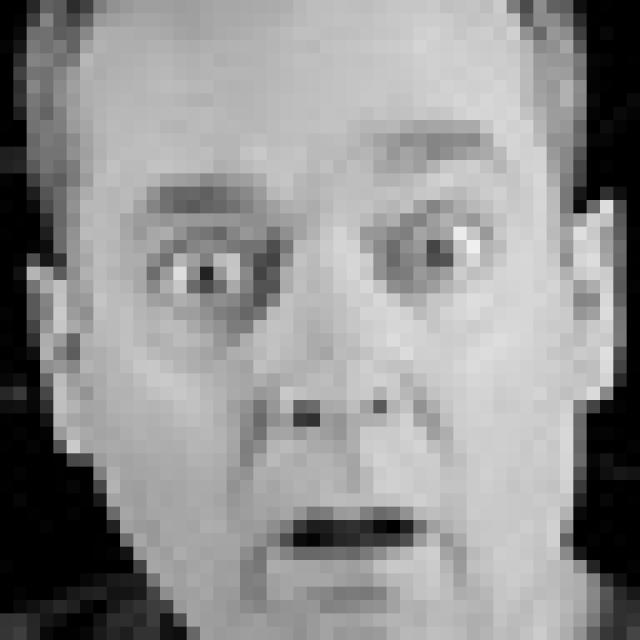surprise: (120, 126, 524, 596)
